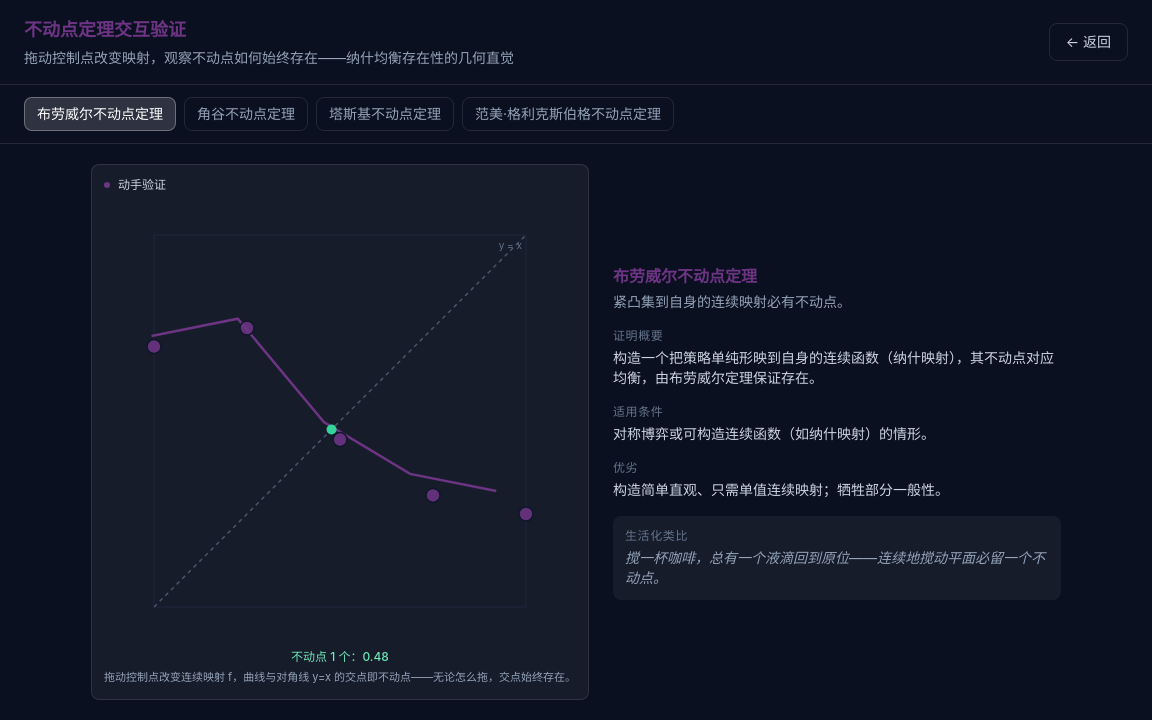
Test case: FixedPointSimulator › 切换到角谷变体显示集值（带状）交互图
The width and height of the screenshot is (1152, 720).
Click the button "角谷不动点定理" at (246,114), box [184, 97, 308, 131]
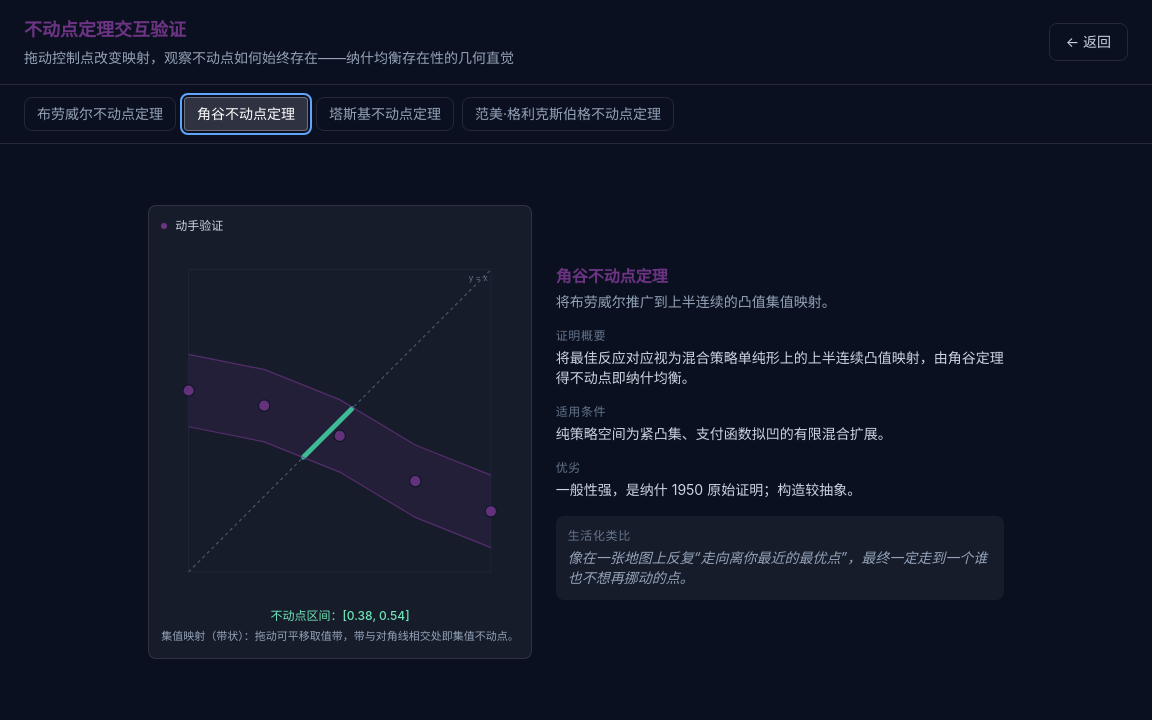
Now the picture named "kakutani 不动点交互图" is shown, box [161, 242, 519, 600]
Now the text "集值映射（带状）：拖动可平移取值带，带与对角线相交处即集值不动点。" is shown, box [161, 628, 519, 646]
